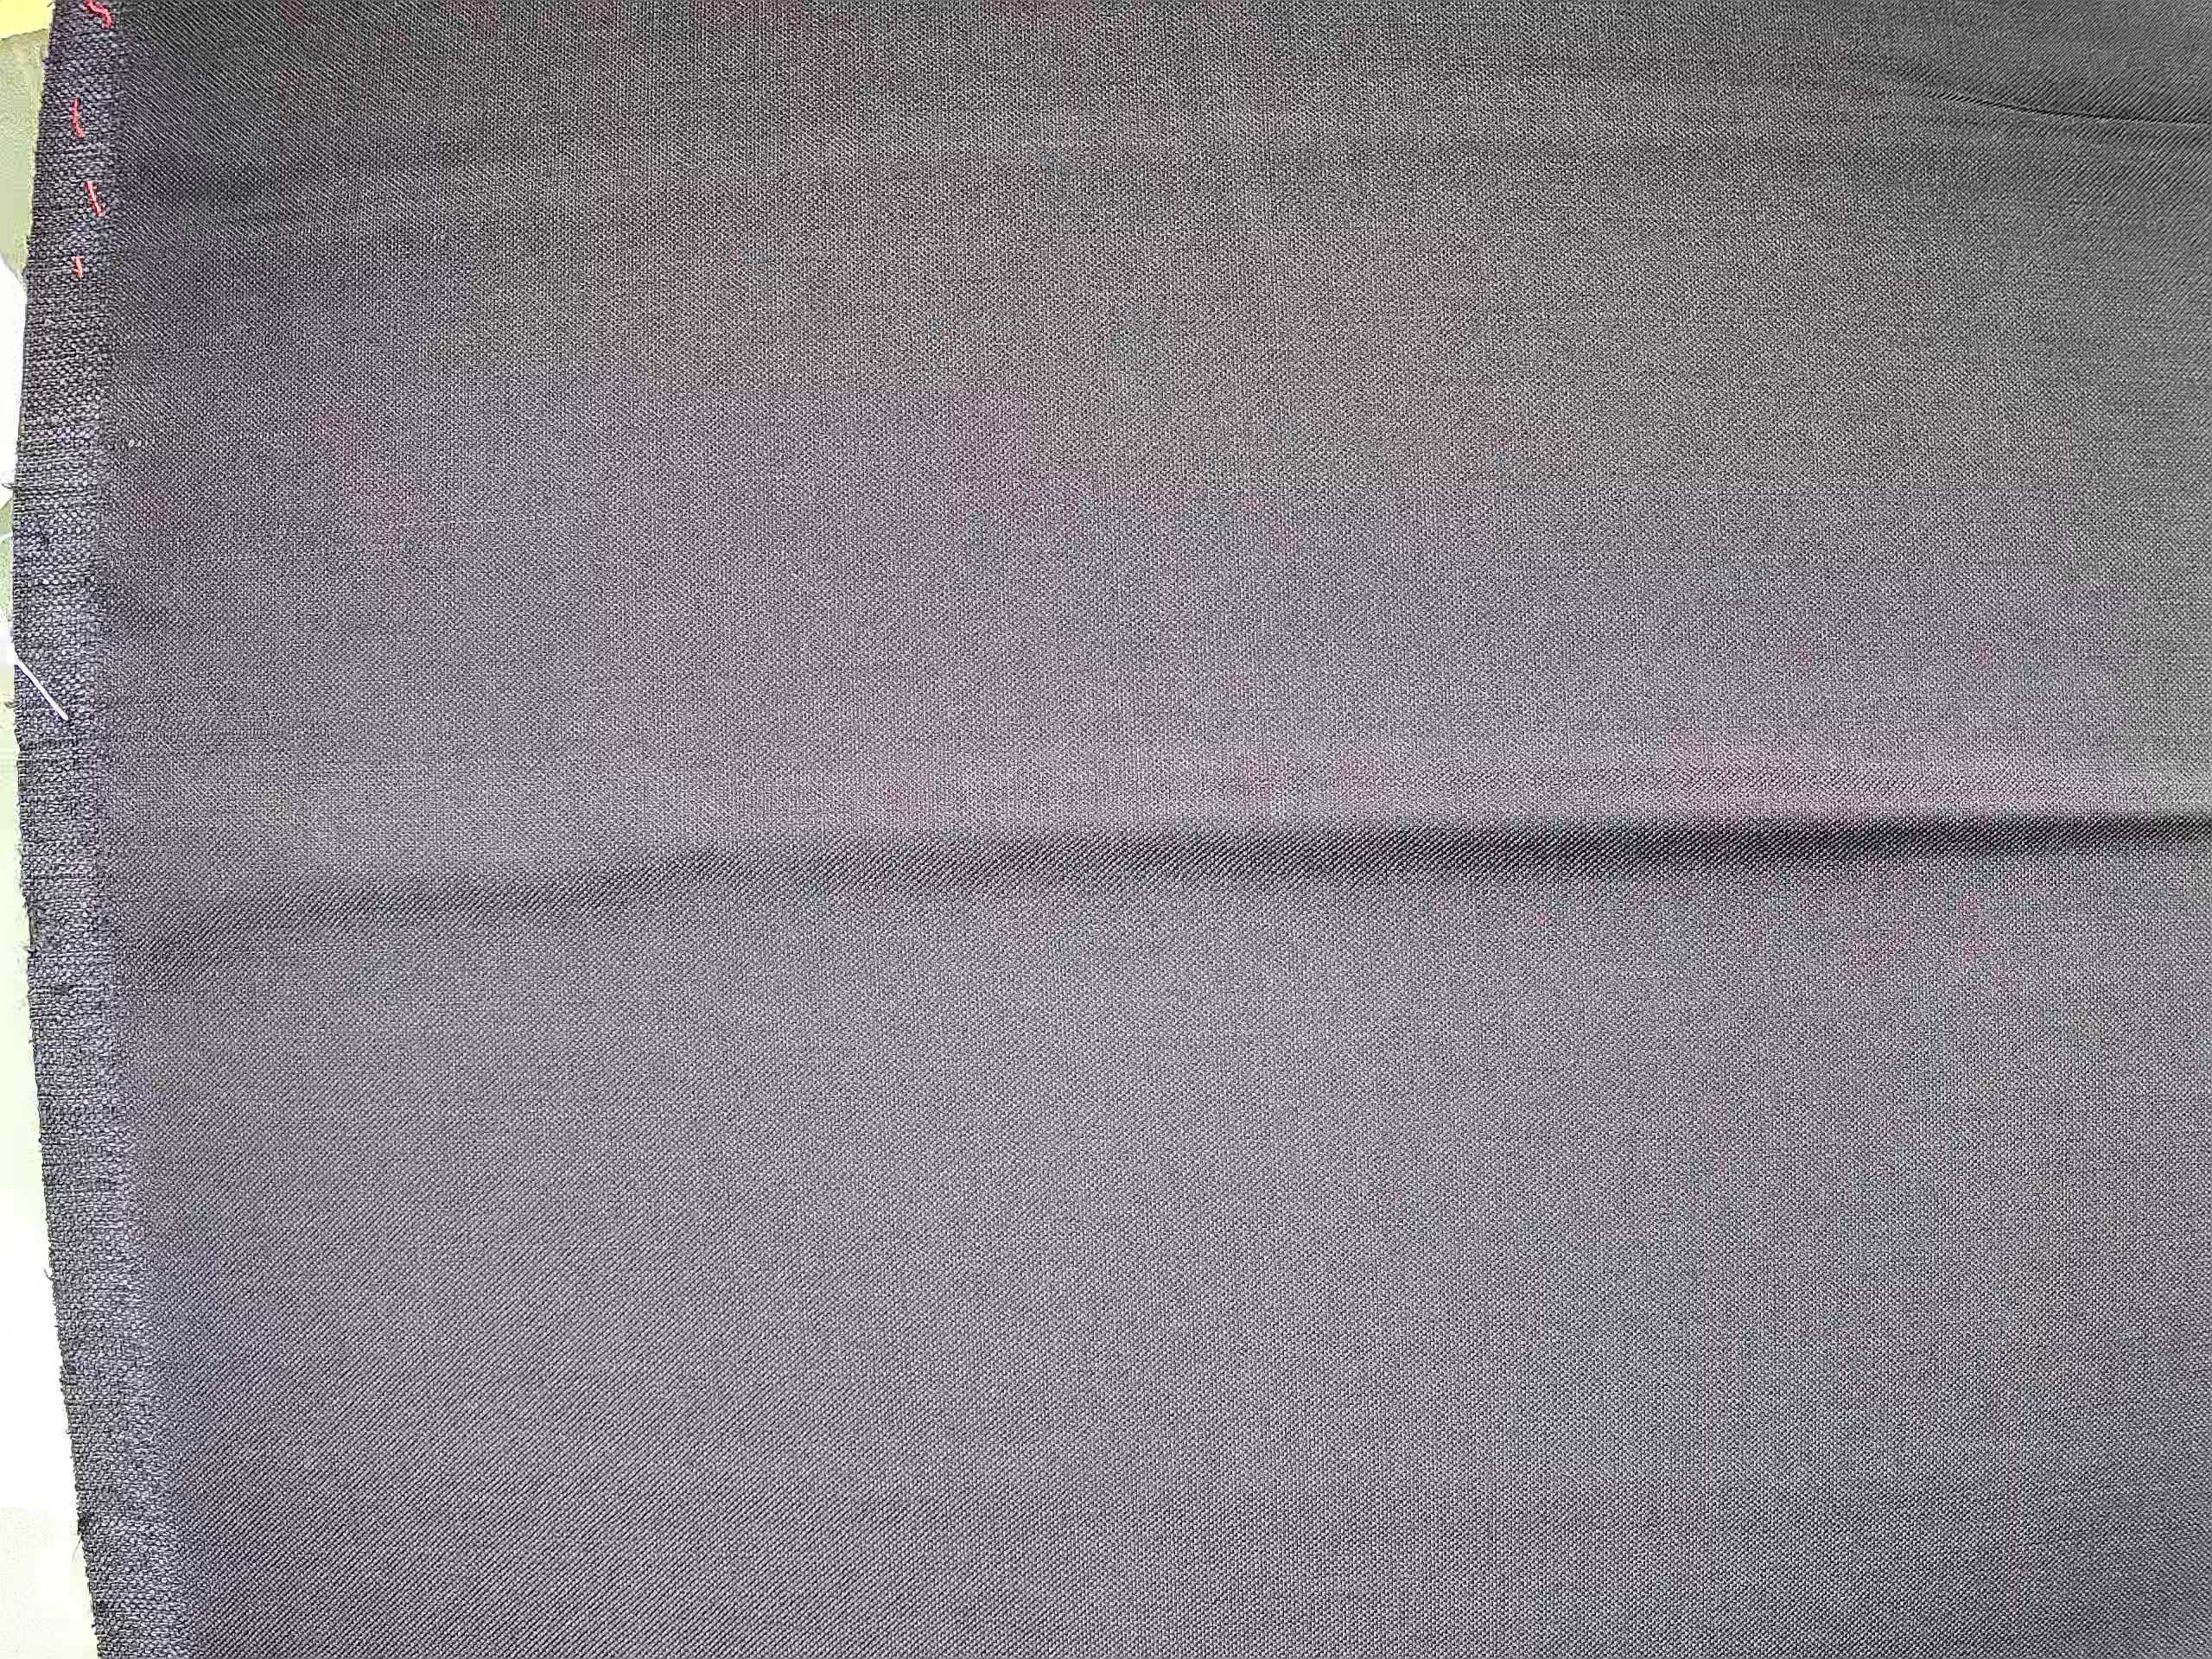others: (113, 516, 658, 572), (106, 404, 397, 457), (115, 701, 350, 763)
